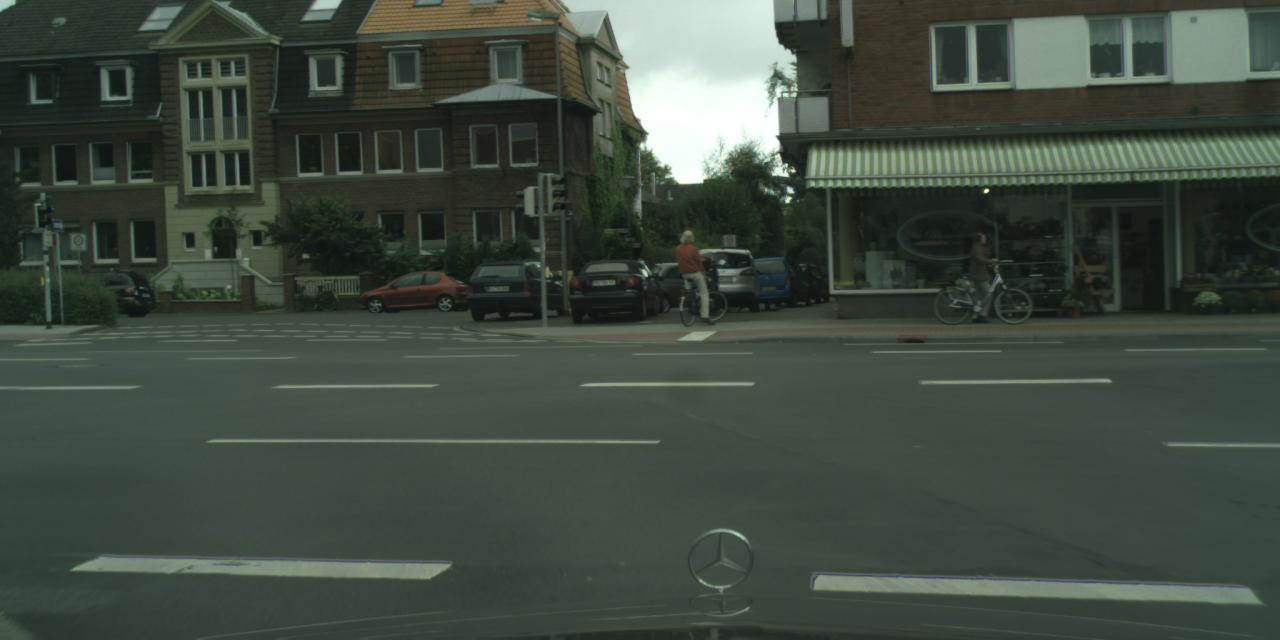ped: (961, 232, 998, 322), (676, 230, 711, 316)
